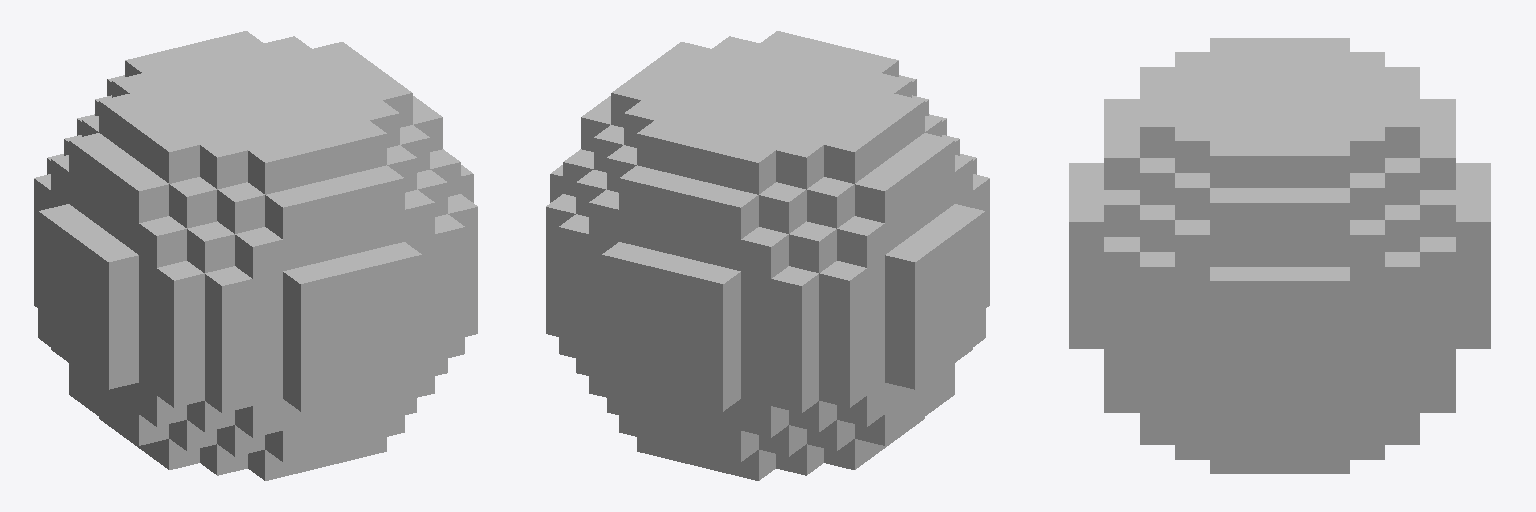
The model's file is Snowman_Body_4.obj.
3 views of the same model, side by side, from view 1: azimuth 30°, elevation 25°; view 2: azimuth 150°, elevation 25°; view 3: azimuth 270°, elevation 25° (orthographic).
Visible parts, largest first — view 1: object 1; view 2: object 1; view 3: object 1.
Part boxes in pixels (x1,y1,x2,y2): object 1: (34,31,477,480); object 1: (546,31,989,480); object 1: (1069,38,1490,473).
Size of the model in its own units: 1.2 by 1 by 1.2.